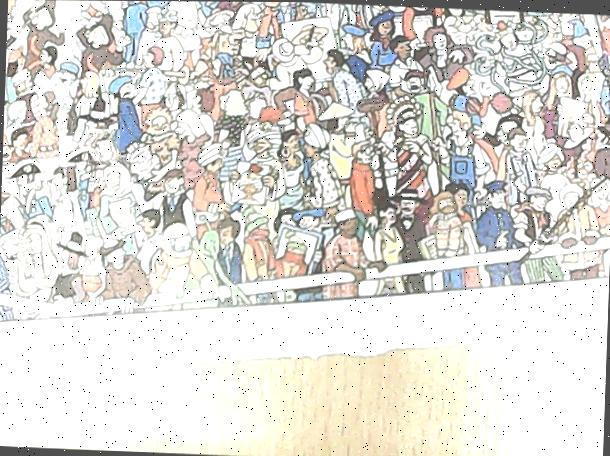waldo: (88, 129, 121, 164)
